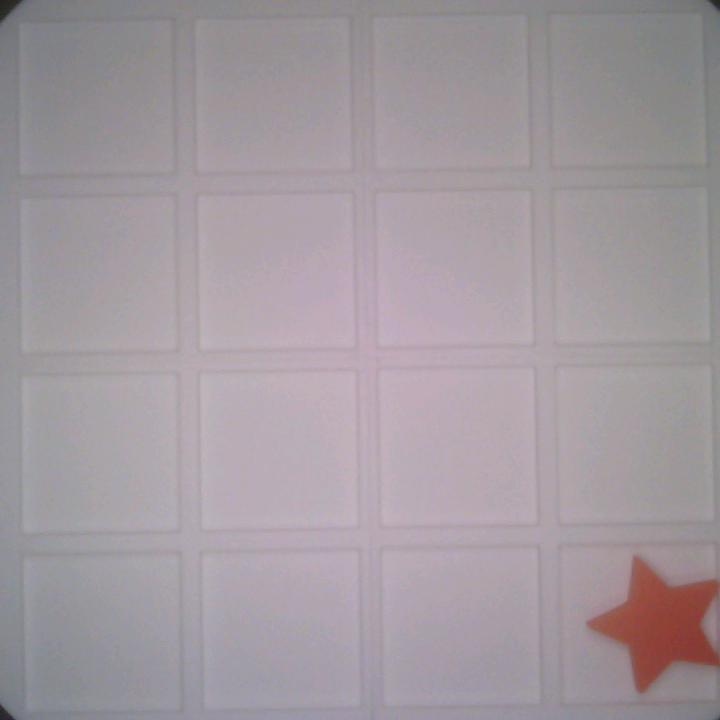Orange star: (581, 555, 720, 701)
